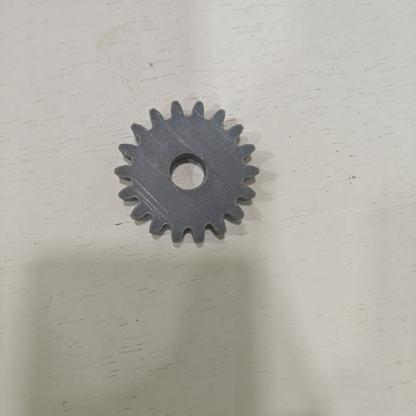gear: (105, 92, 270, 255)
